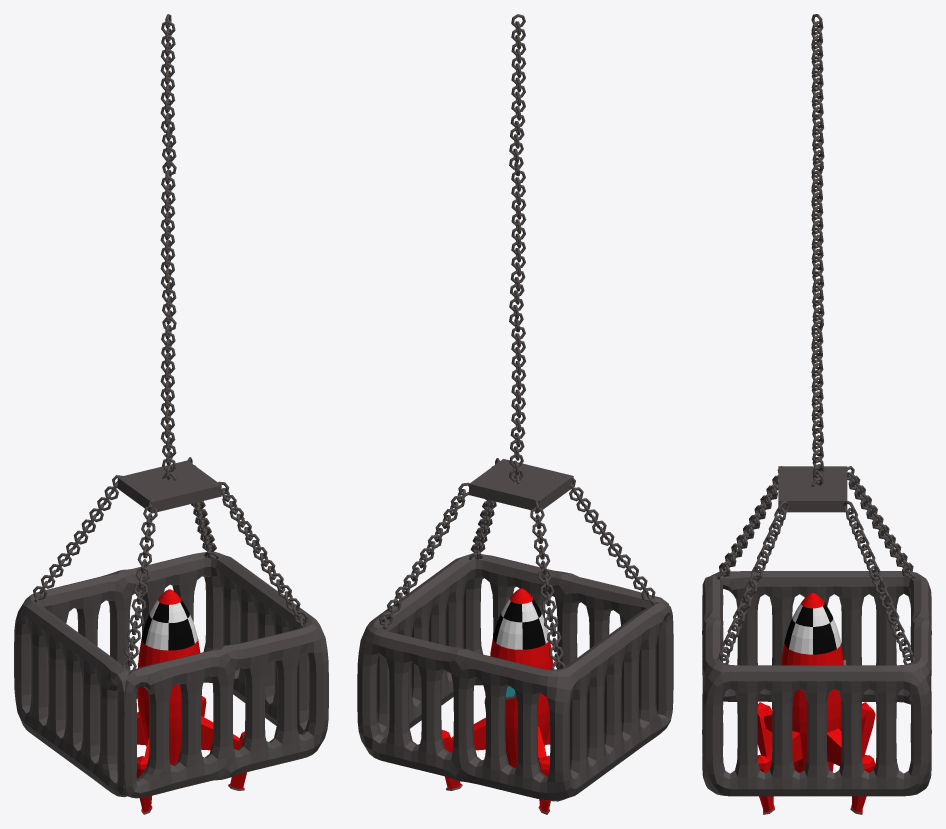
Rendered from RocketandZindan.fbx.
The picture shows the model from 3 angles, left to right: view 1: azimuth 30°, elevation 25°; view 2: azimuth 150°, elevation 25°; view 3: azimuth 270°, elevation 25°; orthographic projection.
Visible parts, largest first — view 1: Cube, Cylinder; view 2: Cube, Cylinder; view 3: Cube, Cylinder.
Part boxes in pixels (x1,y1,x2,y2): Cube: (14,14,328,798); Cylinder: (136,589,246,814); Cube: (357,14,673,801); Cylinder: (441,588,552,814); Cube: (702,14,931,796); Cylinder: (757,592,875,814).
Bounding box in the file's own units: 561 × 1964 × 527.
